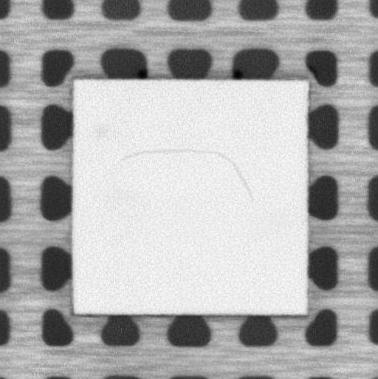DIE_CRACK: (115, 145, 255, 203)
